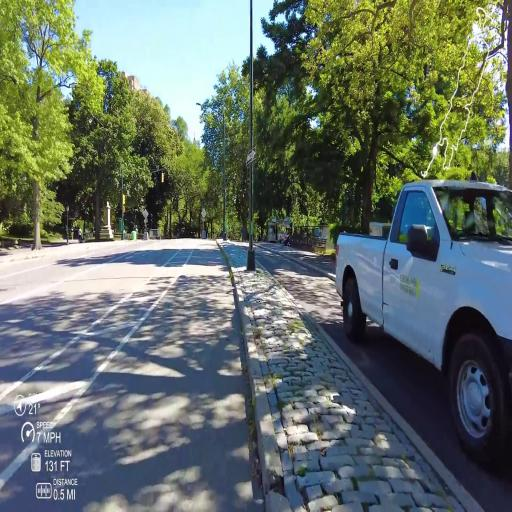Street_Light: (194, 98, 229, 242), (245, 0, 257, 272)
